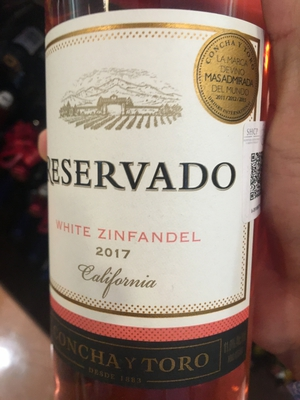reservado white zinfandel: (44, 3, 270, 400)
